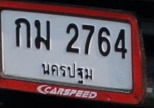txt01: (13, 17, 32, 49)
txt28: (32, 18, 51, 50)
